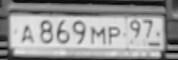license-plateSW: (8, 12, 165, 51)
